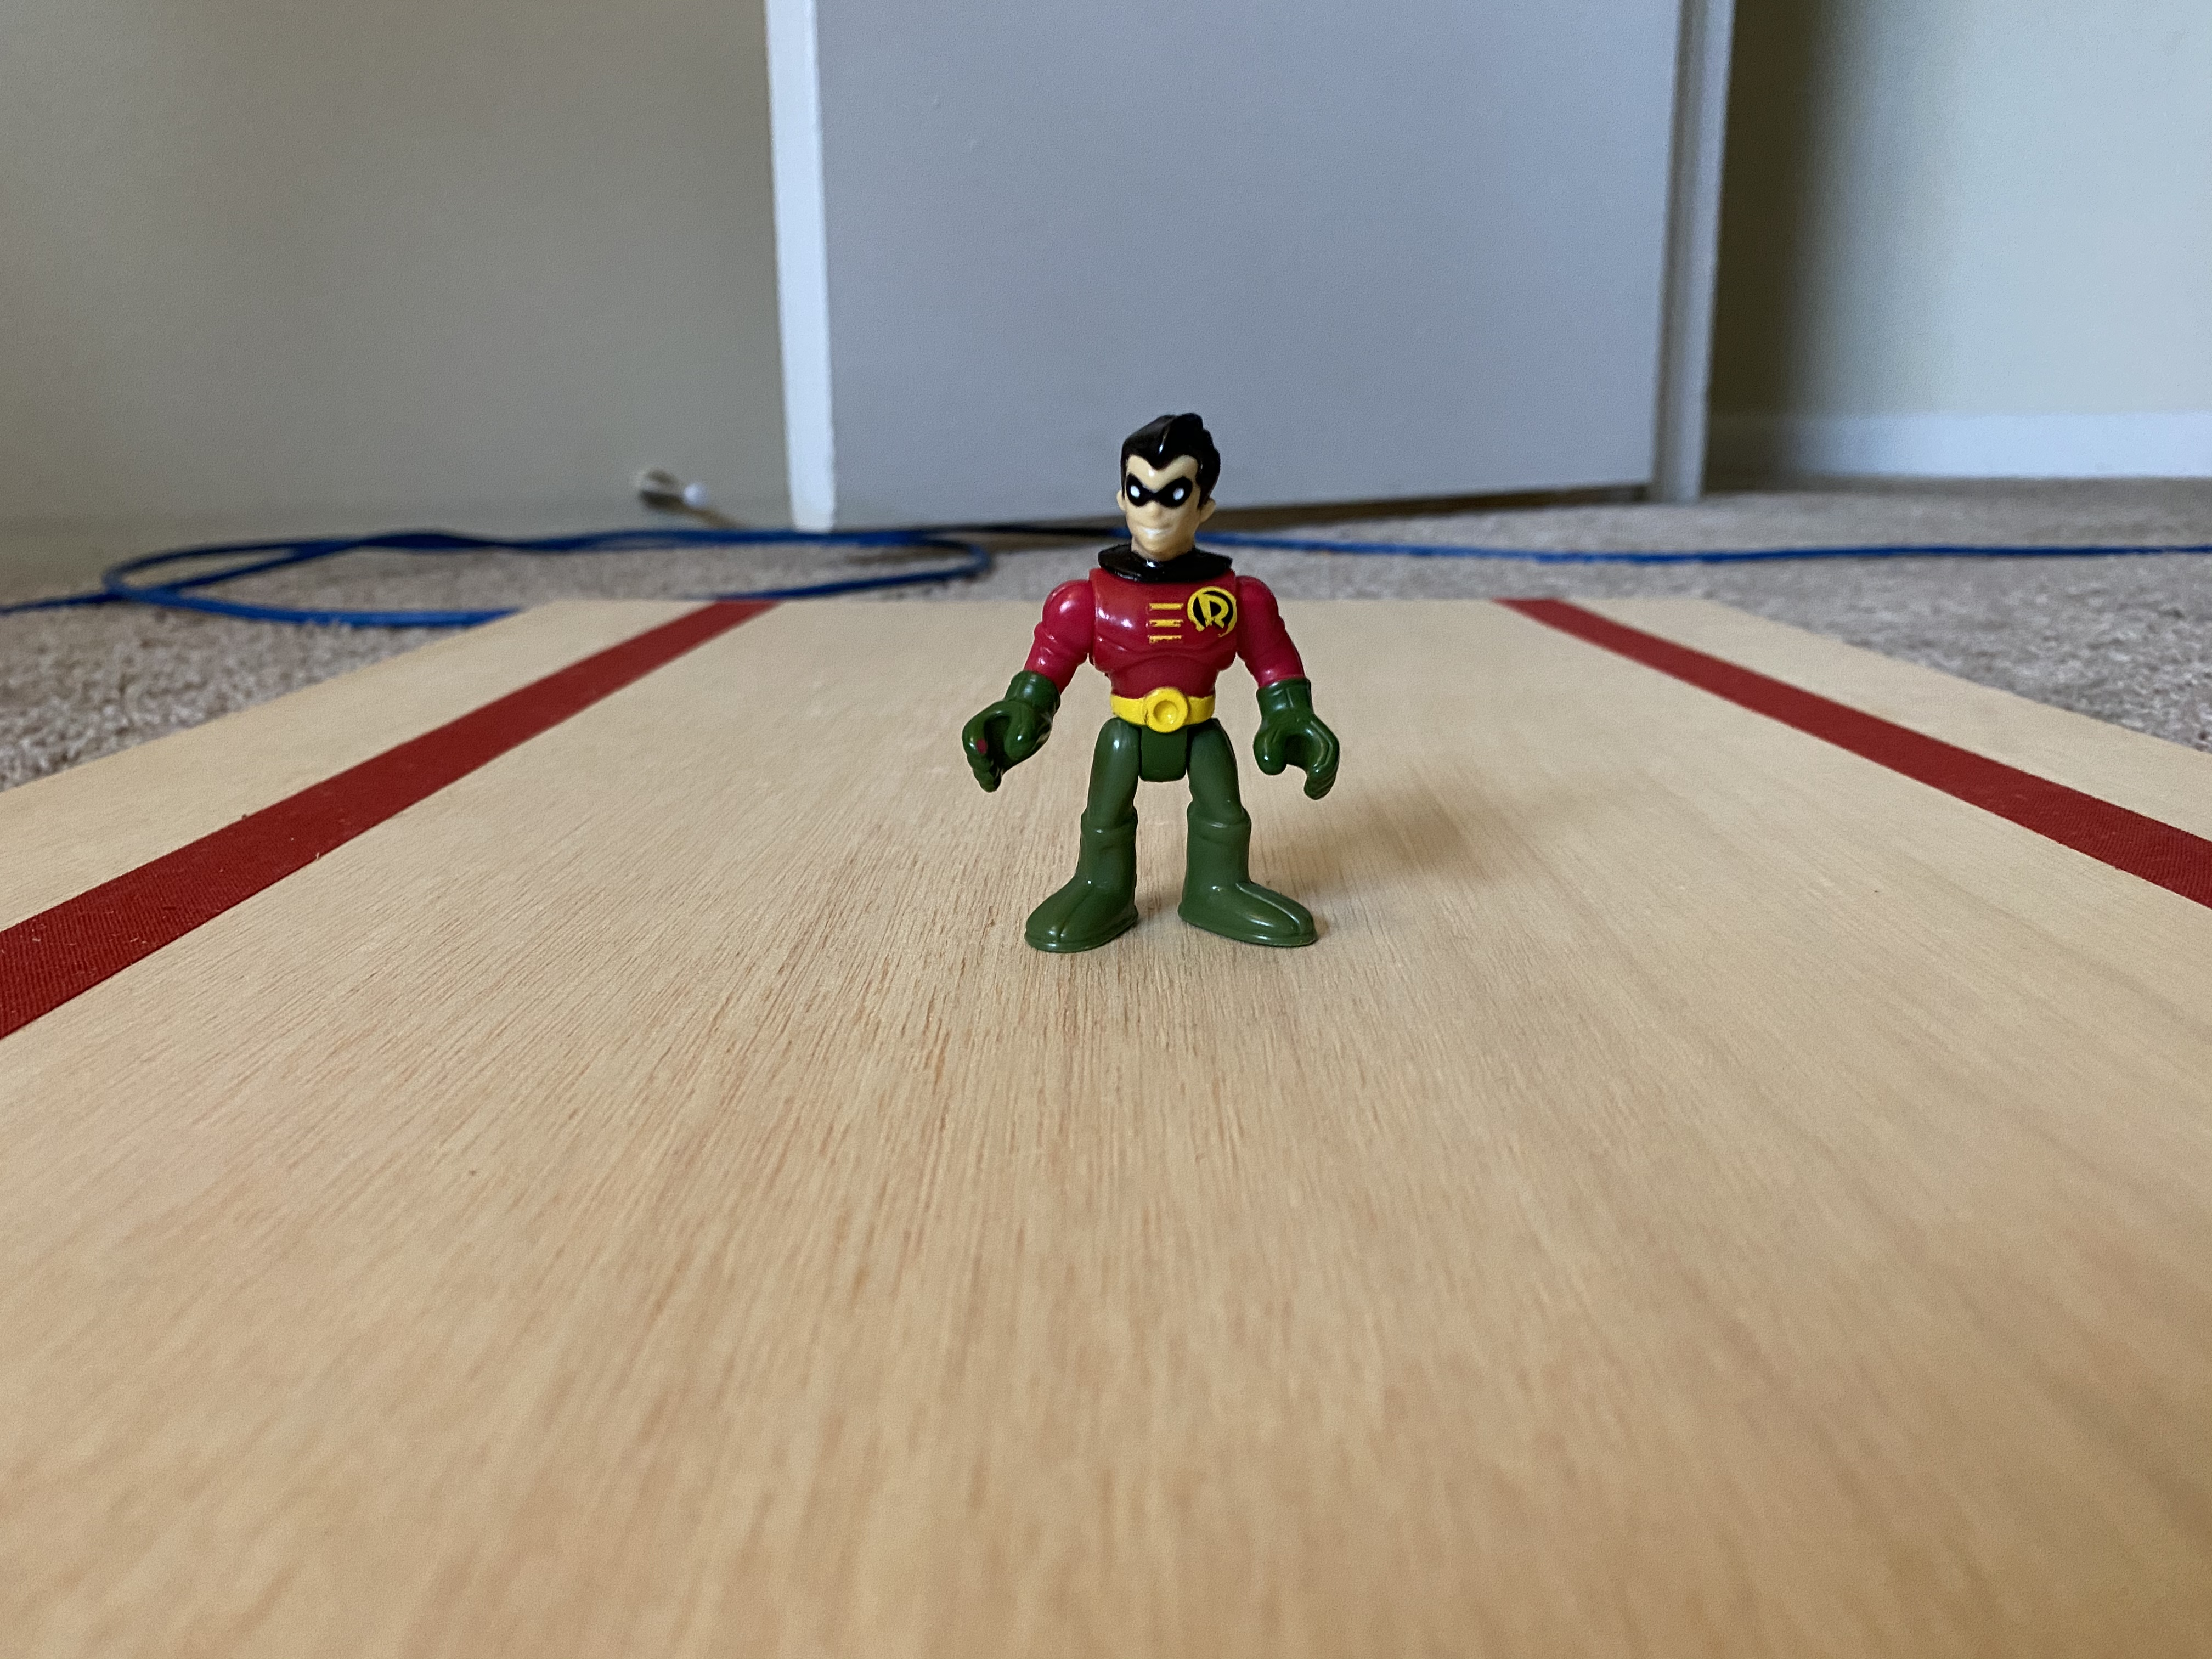Person: (896, 399, 1408, 971)
